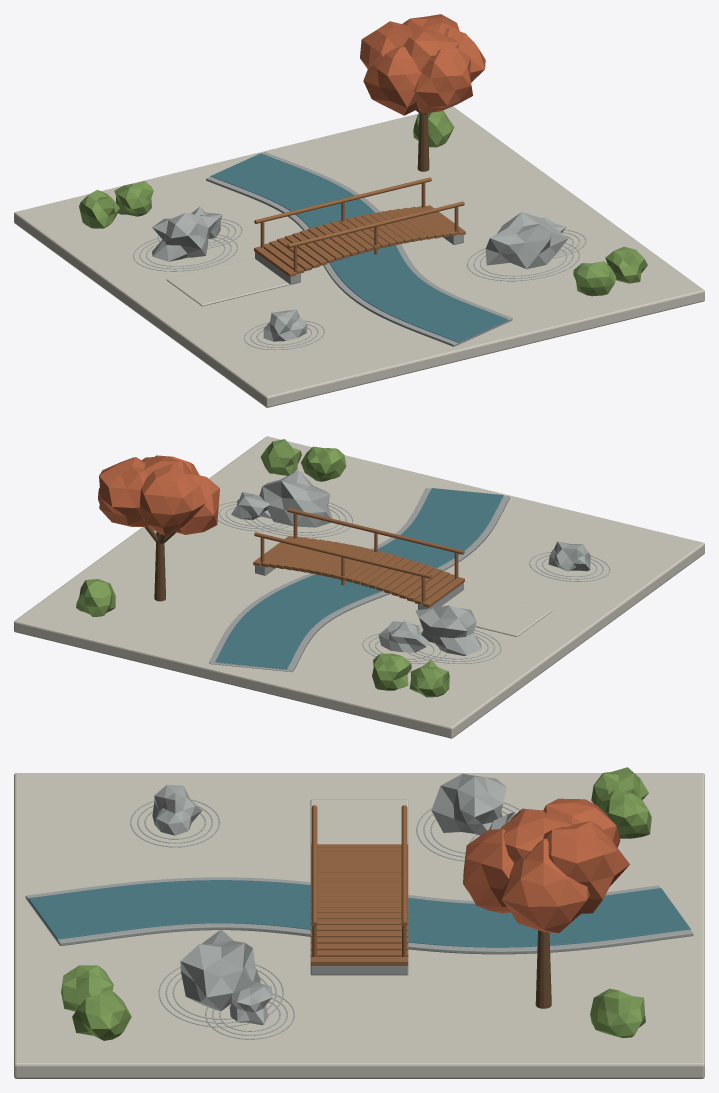
The model's file is ZEN_GARDEN_PARK.fbx.
The picture shows the model from 3 angles, top to bottom: view 1: azimuth 30°, elevation 25°; view 2: azimuth 150°, elevation 25°; view 3: azimuth 270°, elevation 25°; orthographic projection. The views are drawn at different scales.
Parts seen in each view (by area): view 1: UNITY_ASSET_ZEN_GARDEN_PARK; view 2: UNITY_ASSET_ZEN_GARDEN_PARK; view 3: UNITY_ASSET_ZEN_GARDEN_PARK.
Boxes of the visible parts, bbox=[...] form: UNITY_ASSET_ZEN_GARDEN_PARK: bbox=[14, 14, 704, 407]; UNITY_ASSET_ZEN_GARDEN_PARK: bbox=[14, 436, 704, 738]; UNITY_ASSET_ZEN_GARDEN_PARK: bbox=[14, 767, 704, 1078].
Bounding box in the file's own units: 12 × 3.96 × 12.
